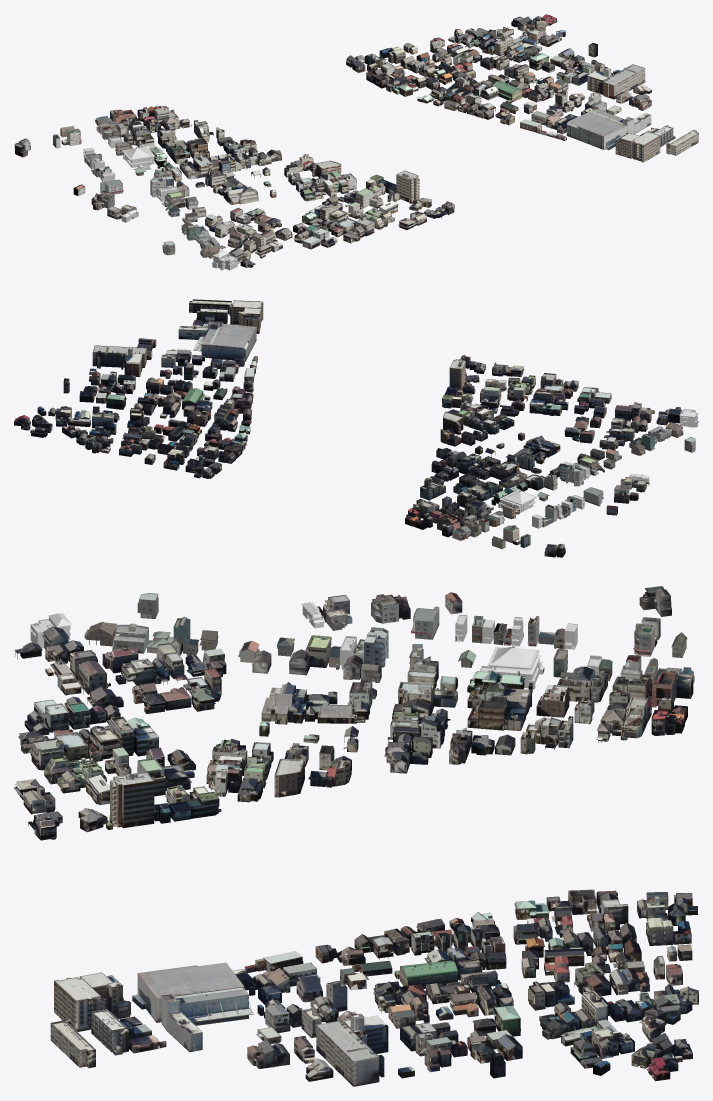
The model's file is lod3-station-3-1-packed.glb.
3 renders of one model, top to bottom at view 1: azimuth 30°, elevation 25°; view 2: azimuth 150°, elevation 25°; view 3: azimuth 270°, elevation 25°, orthographic. The views are drawn at different scales.
Bounding box in the file's own units: 586 × 26.82 × 349.
58 materials, 57 textured.
